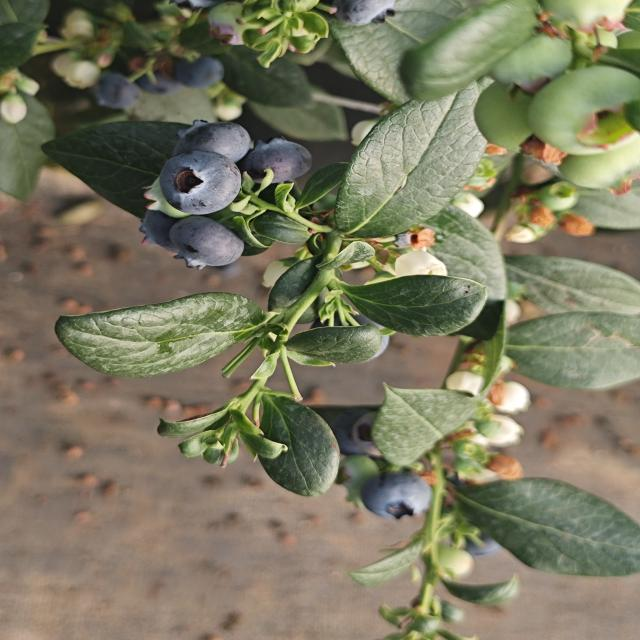ripe: (151, 147, 244, 212), (160, 211, 247, 270), (356, 466, 434, 522), (124, 202, 200, 257), (234, 141, 316, 182), (168, 112, 246, 153), (85, 77, 150, 118), (451, 527, 506, 563), (186, 54, 226, 83)
